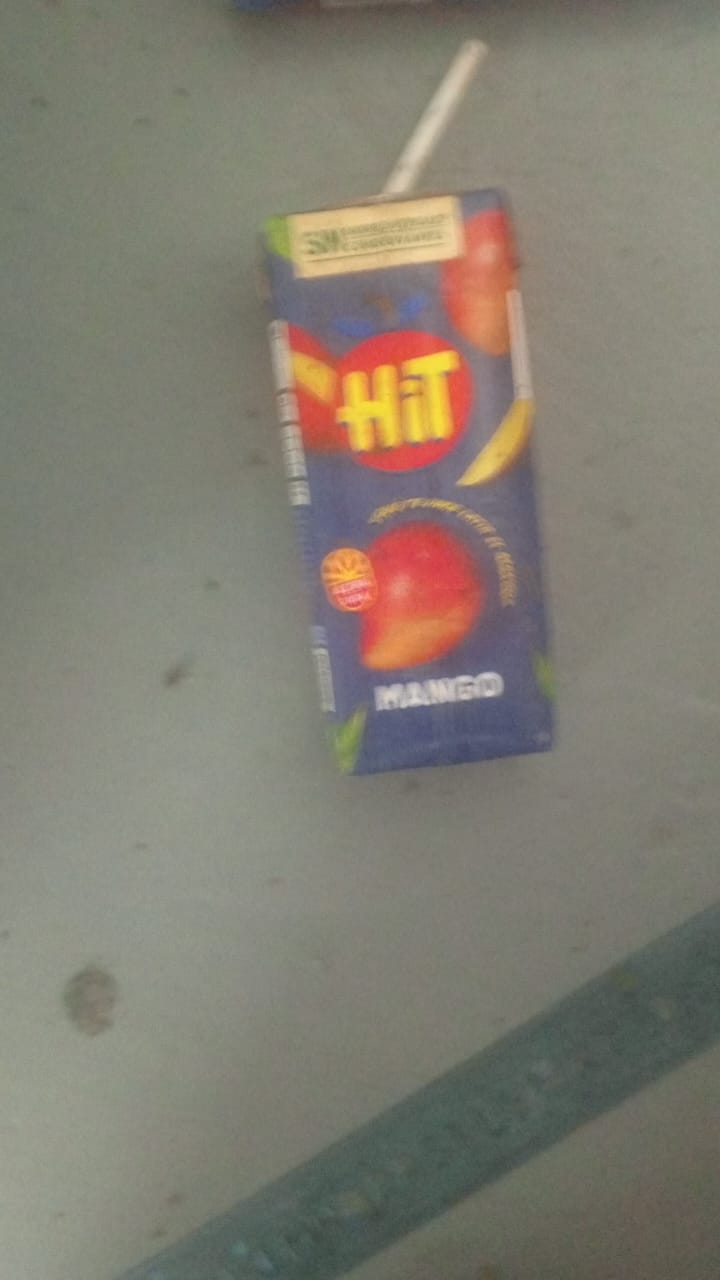Carton: (257, 187, 557, 778)
